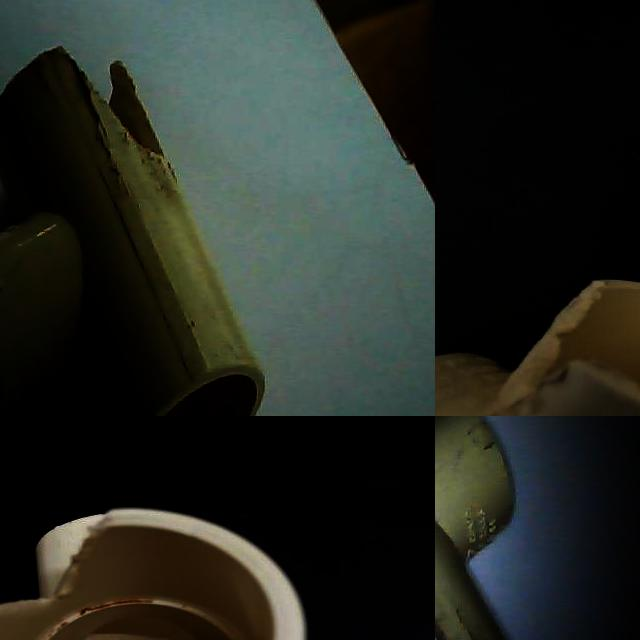Defective: (0, 516, 122, 640), (72, 60, 163, 199), (66, 51, 166, 160), (543, 314, 614, 416), (557, 294, 640, 333)
T Joint: (0, 49, 267, 416), (435, 416, 516, 640)
